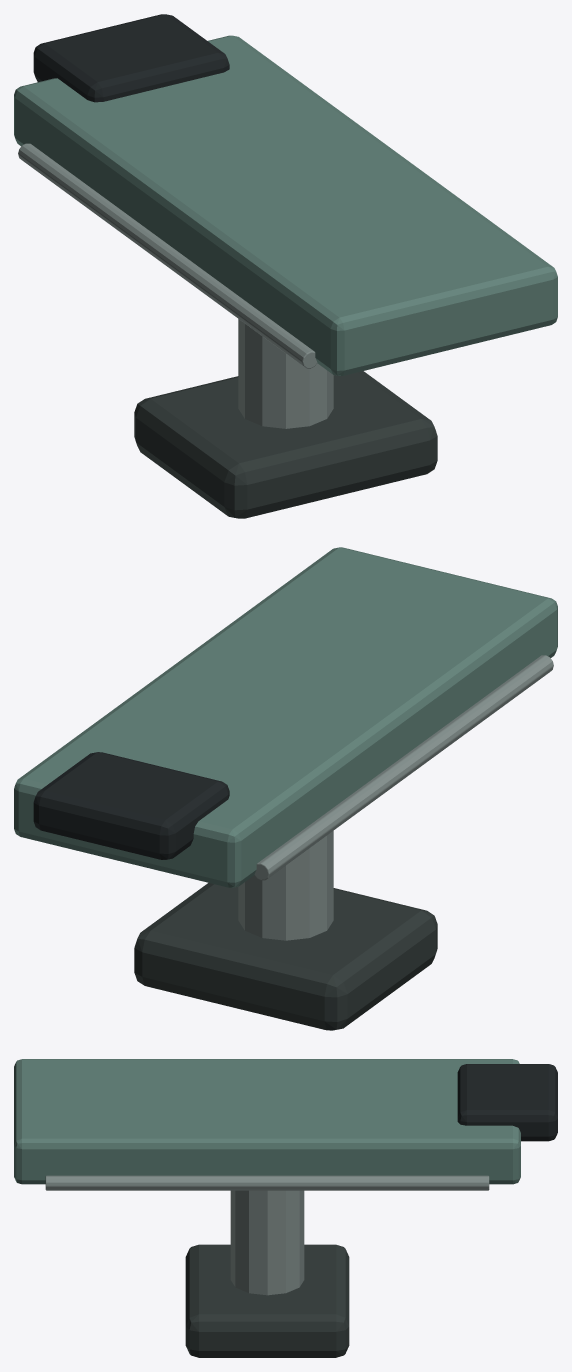
Rendered from H_OperatingTable.fbx.
3 renders of one model, top to bottom at view 1: azimuth 30°, elevation 25°; view 2: azimuth 150°, elevation 25°; view 3: azimuth 270°, elevation 25°, orthographic. The views are drawn at different scales.
Visible parts, largest first — view 1: H_OperatingTable; view 2: H_OperatingTable; view 3: H_OperatingTable.
Part boxes in pixels (bbox=[...]): H_OperatingTable: bbox=[14, 14, 557, 518]; H_OperatingTable: bbox=[14, 547, 557, 1030]; H_OperatingTable: bbox=[14, 1059, 557, 1357].
Size of the model in its own units: 0.8551 by 0.985 by 2.06.
